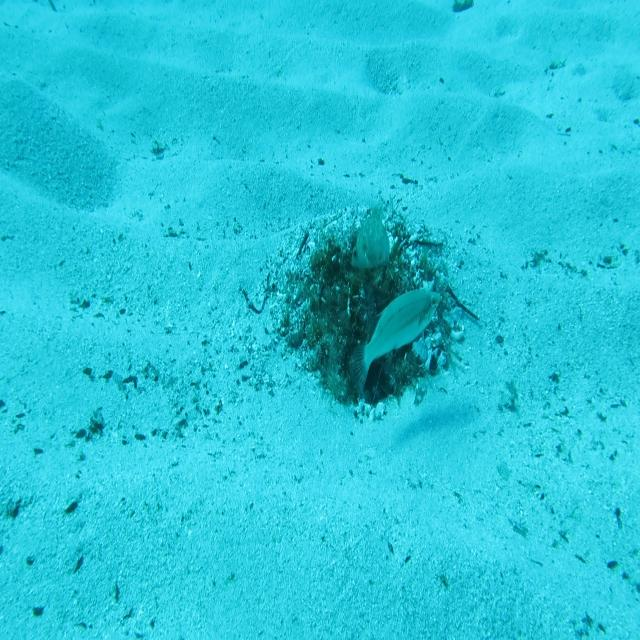INSF: (348, 194, 392, 274)
core_nest: (332, 248, 396, 292)
female: (348, 284, 441, 399)
nest: (276, 191, 489, 431)
vegetation: (452, 0, 474, 15)
